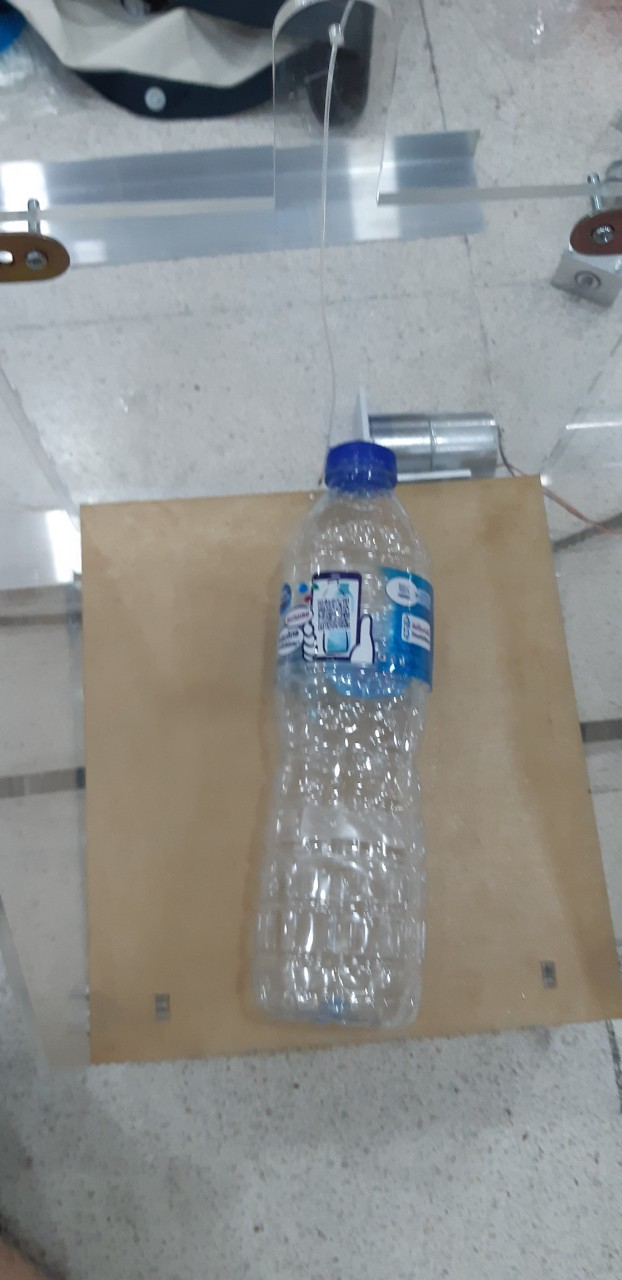PlasticBottle: (246, 445, 434, 1017)
